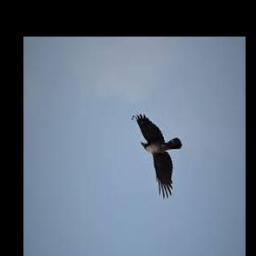Crow: (136, 114, 182, 199)
